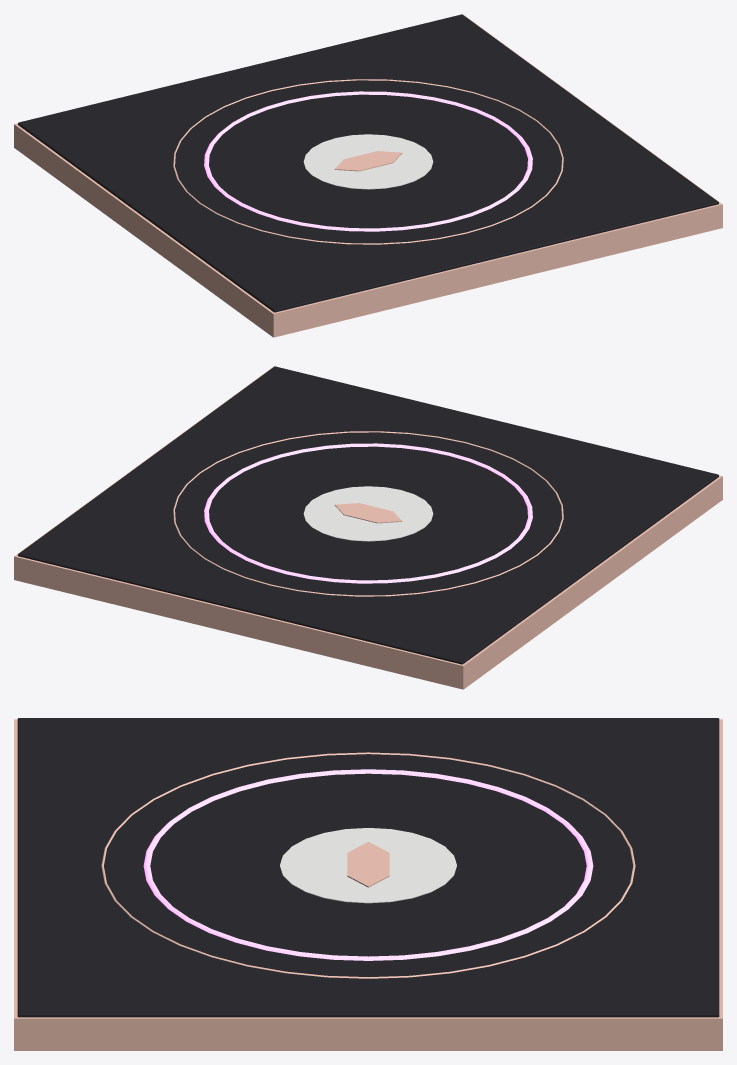
The model's file is floor_halo.glb.
3 renders of one model, top to bottom at view 1: azimuth 30°, elevation 25°; view 2: azimuth 150°, elevation 25°; view 3: azimuth 270°, elevation 25°, orthographic. The views are drawn at different scales.
Parts seen in each view (by area): view 1: floor_halo; view 2: floor_halo; view 3: floor_halo.
Boxes of the visible parts, x1,y1,x2,y2 form: floor_halo: (14,14,722,337); floor_halo: (14,366,722,689); floor_halo: (14,718,722,1050).
Bounding box in the file's own units: 4 × 0.238 × 4.
